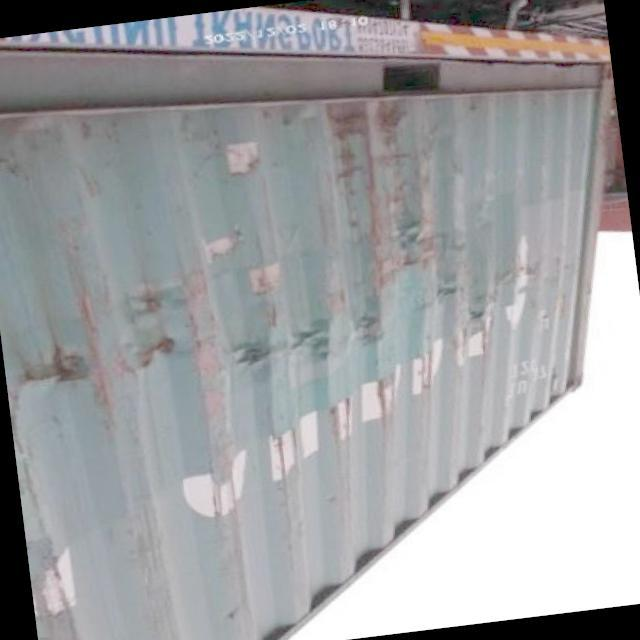rust: (131, 302, 207, 393), (338, 89, 422, 153), (327, 282, 394, 345), (370, 205, 433, 267), (32, 341, 93, 401), (236, 341, 304, 371), (434, 268, 472, 311)
